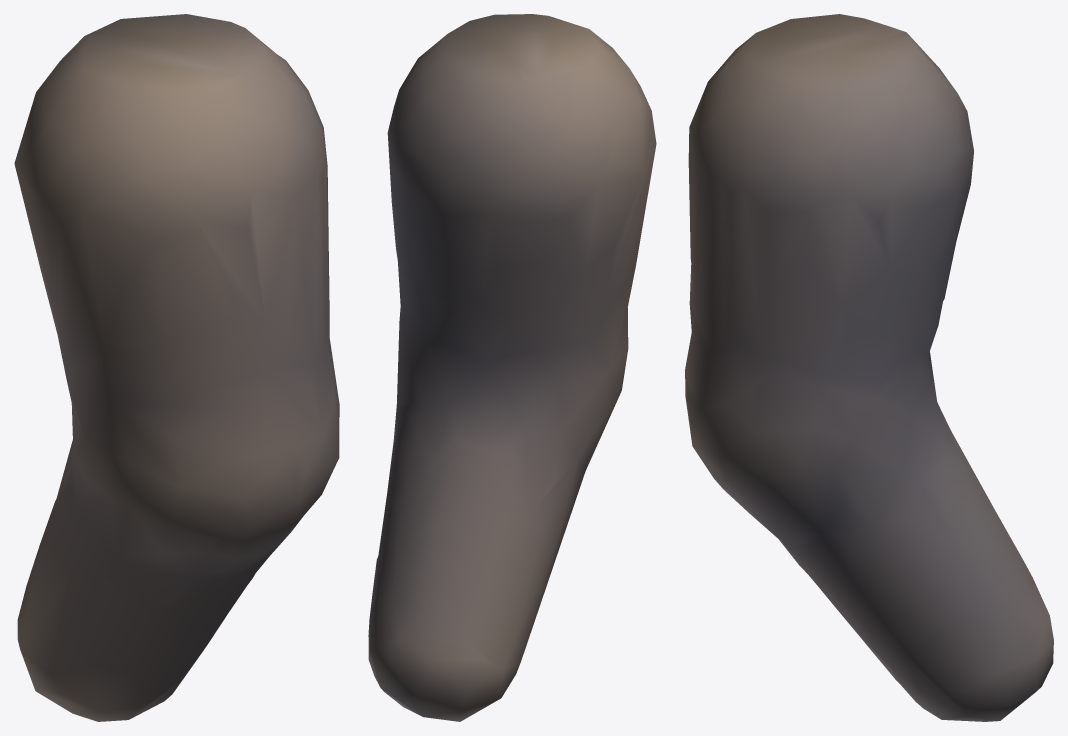
Rendered from husk_thigh_r.glb.
3 views of the same model, side by side, from view 1: azimuth 30°, elevation 25°; view 2: azimuth 150°, elevation 25°; view 3: azimuth 270°, elevation 25° (orthographic). The views are drawn at different scales.
Visible parts, largest first — view 1: geometry_0; view 2: geometry_0; view 3: geometry_0.
Boxes of the visible parts, x1,y1,x2,y2 form: geometry_0: (14,14,339,721); geometry_0: (368,14,656,721); geometry_0: (685,14,1053,721).
Bounding box in the file's own units: 0.2458 × 0.6194 × 0.3125.
